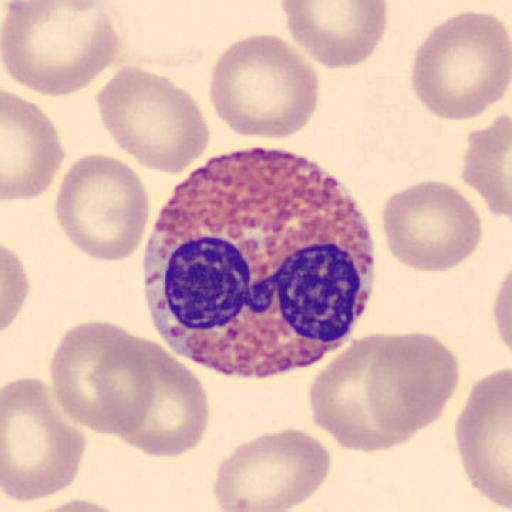RBC: (305, 331, 427, 455), (106, 333, 210, 460), (48, 319, 156, 437), (208, 32, 322, 142), (96, 67, 211, 176), (1, 1, 121, 98), (410, 9, 510, 122), (2, 375, 88, 505), (52, 152, 150, 263), (212, 426, 333, 512), (365, 330, 461, 436), (380, 178, 484, 274), (453, 364, 512, 512), (279, 1, 389, 70), (90, 325, 155, 438), (2, 91, 66, 202), (461, 111, 512, 220), (2, 243, 32, 334), (490, 264, 512, 361), (22, 496, 134, 512), (492, 275, 512, 355)
WBC: (142, 155, 374, 381), (144, 226, 375, 379)
